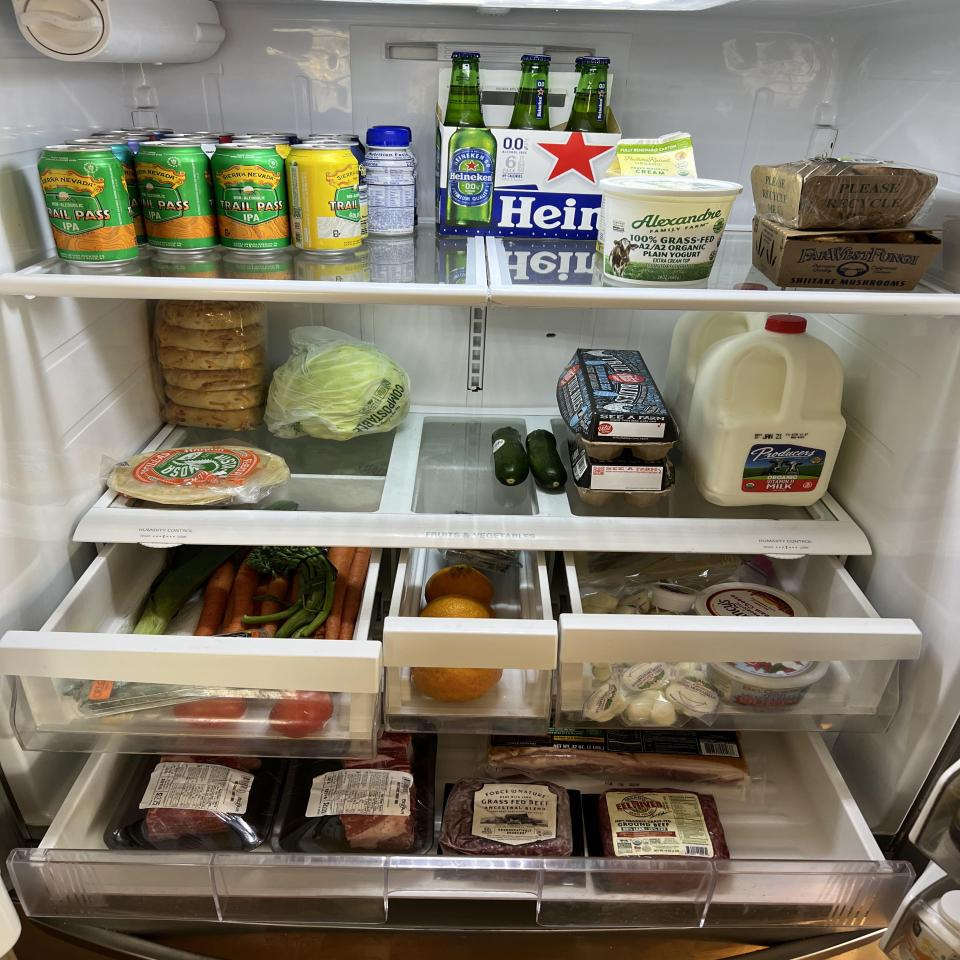Huevos: (558, 348, 679, 460), (570, 438, 676, 506)
Leche: (686, 315, 848, 508)
Pepino: (527, 428, 566, 494), (492, 427, 530, 487)
Tomate: (269, 689, 335, 736), (173, 695, 247, 729)
Yogur: (599, 176, 743, 286)
Zanahoria: (192, 547, 372, 640)
